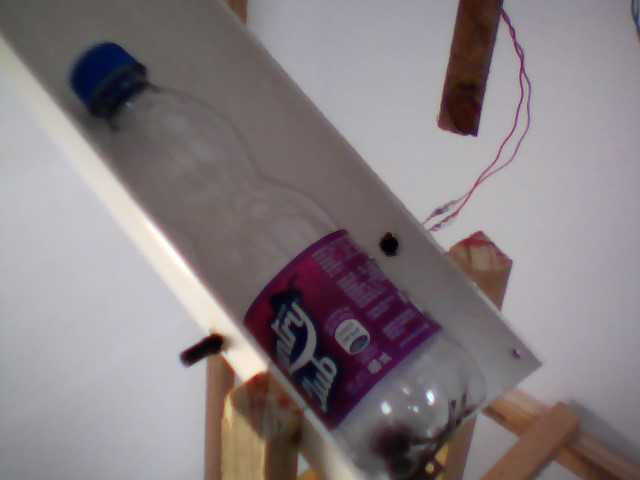plastico: (67, 34, 496, 480)
